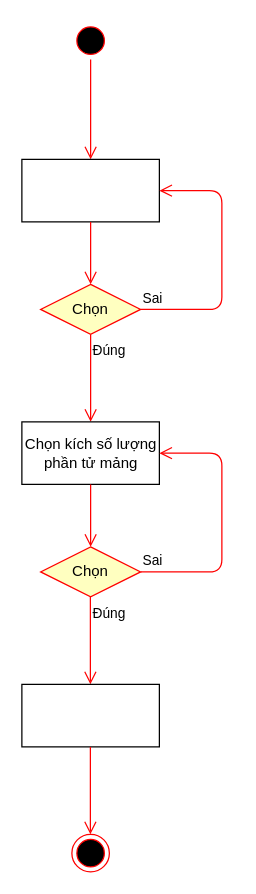
Some shapes in this 256 by 894 pixel diagram are drawn without their labels. Here are the shapes that lost their labels. From the top down, the centre of each, then its label:
At point (90, 190): "Chọn giải thuật".
At point (90, 715): "Chạy giải thuật".
